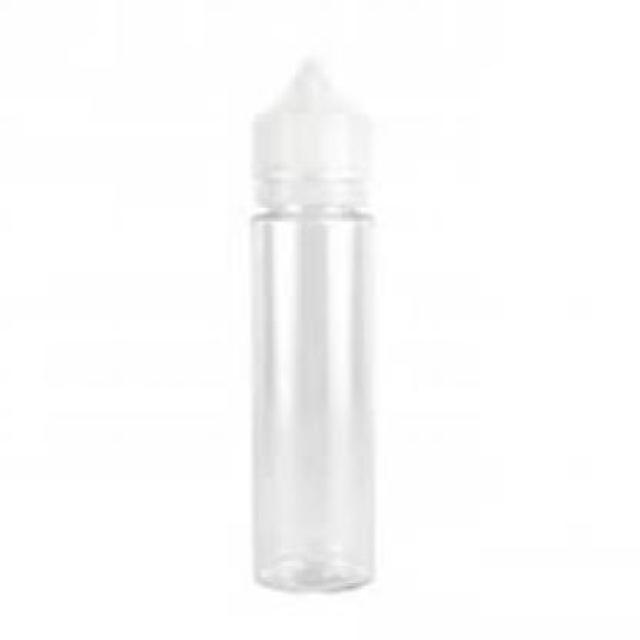kaca: (245, 198, 369, 590)
